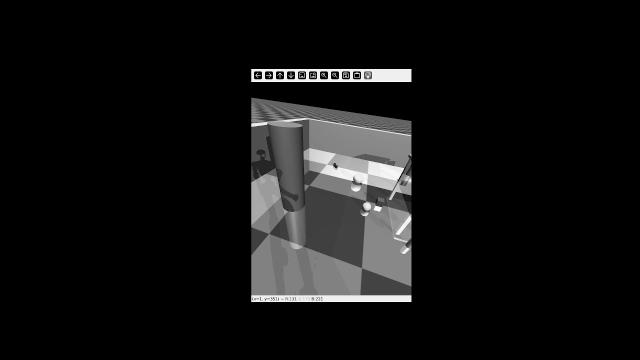cilindro: (267, 120, 307, 213), (405, 160, 414, 176), (405, 234, 413, 248)
cuadrado: (375, 195, 386, 210), (333, 165, 339, 168), (333, 162, 336, 166)
esfera: (353, 171, 366, 184), (360, 202, 374, 212)
